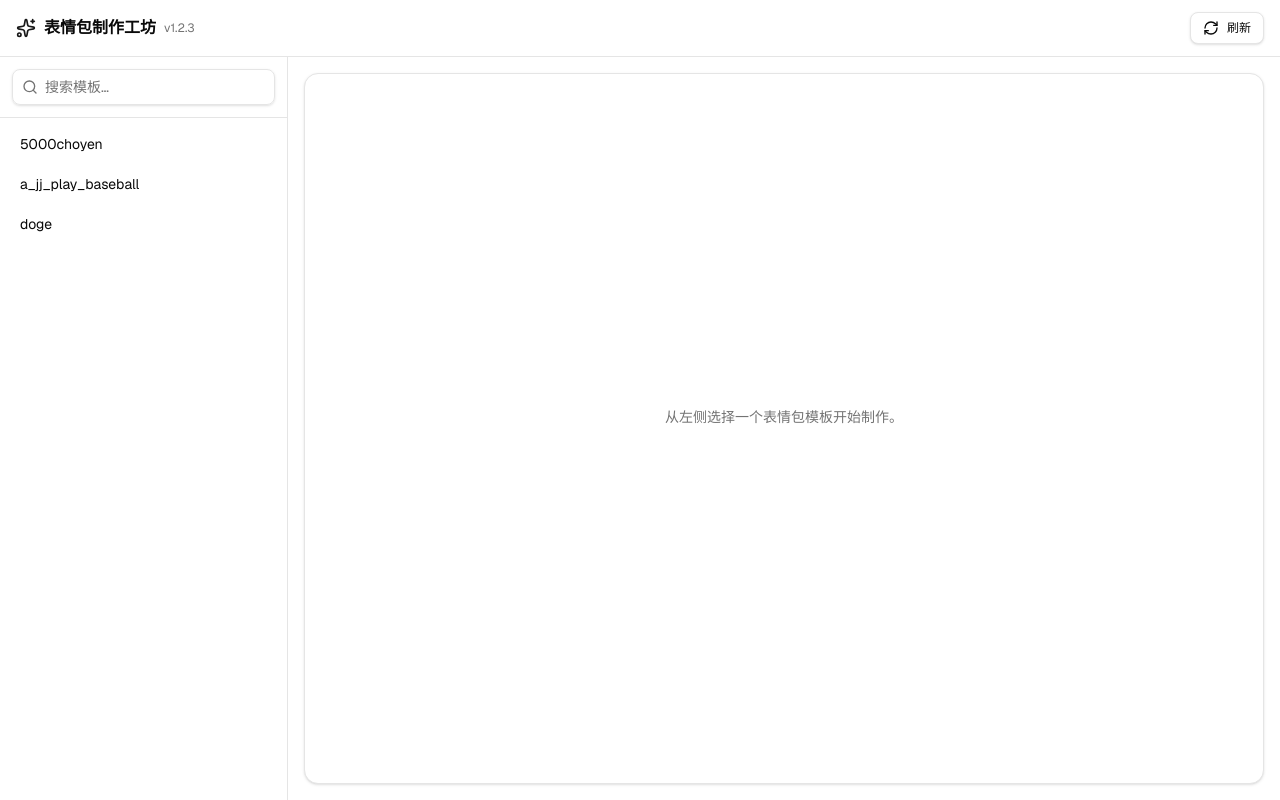
Test: MemeStudio integration › loads info + preview and initialises the form on selection
Click the button "doge" at {"x": 36, "y": 224}, box left=8, top=206, right=279, bottom=242
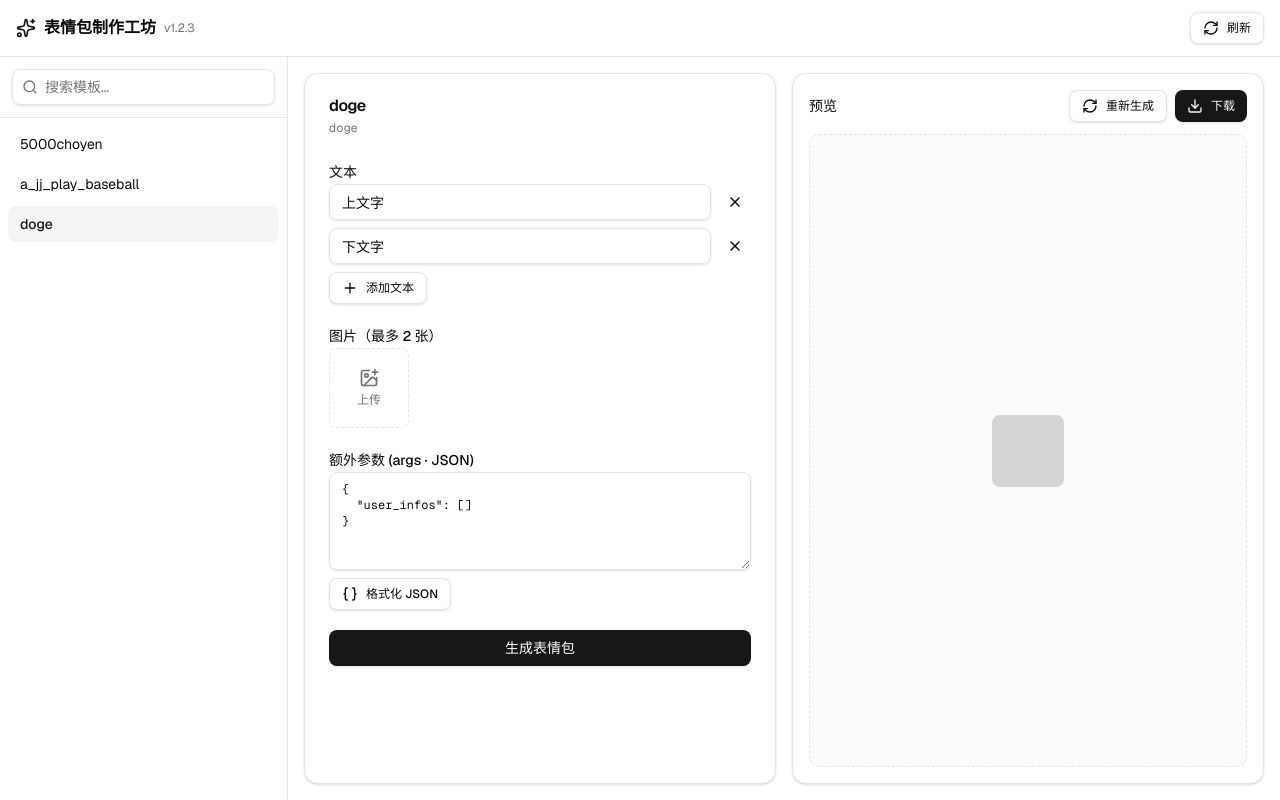
Check: the field named "文本 1" holds "上文字", box left=329, top=184, right=711, bottom=220
Check: the field named "文本 2" holds "下文字", box left=329, top=228, right=711, bottom=264
